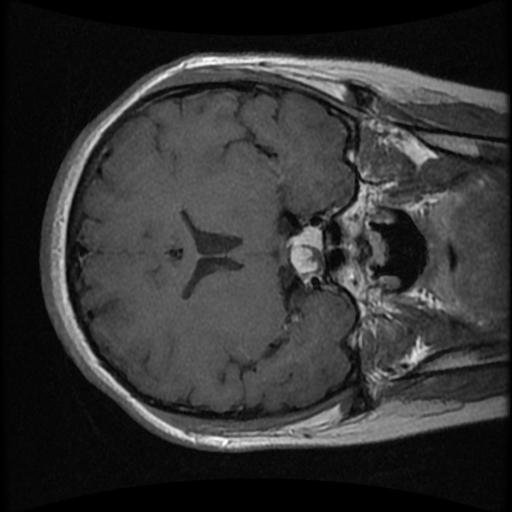pituitary tumour: (290, 227, 324, 280)
